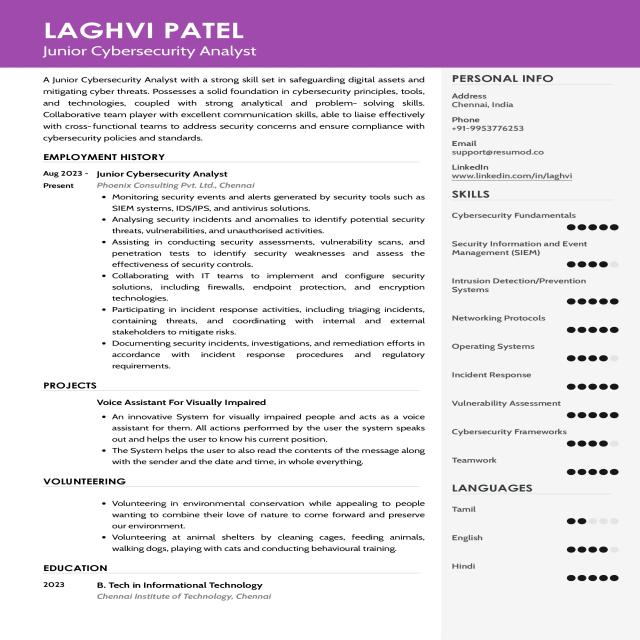contact: (447, 70, 596, 180)
education: (40, 563, 301, 617)
experience: (36, 149, 437, 374)
header: (25, 9, 258, 64)
languages: (449, 481, 635, 602)
projects: (35, 378, 429, 470)
skills: (446, 186, 640, 480)
summary: (32, 73, 438, 145)
